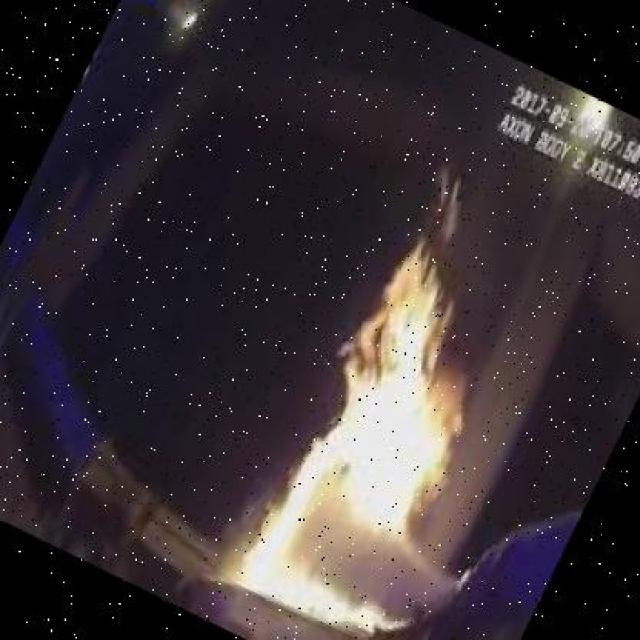fire: (196, 172, 586, 638)
